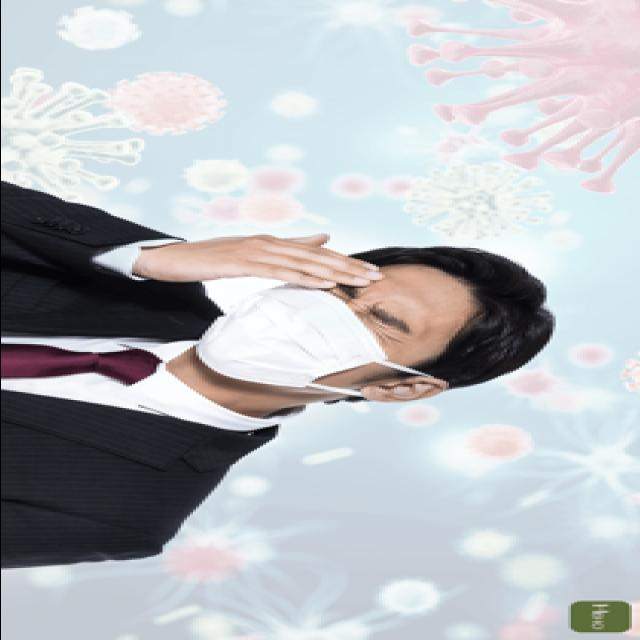mask: (195, 274, 418, 392)
